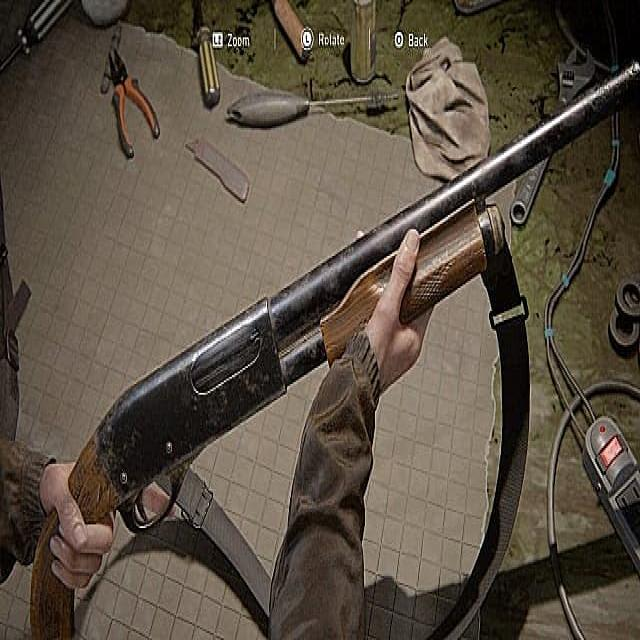ShotGun: (30, 62, 640, 640)
